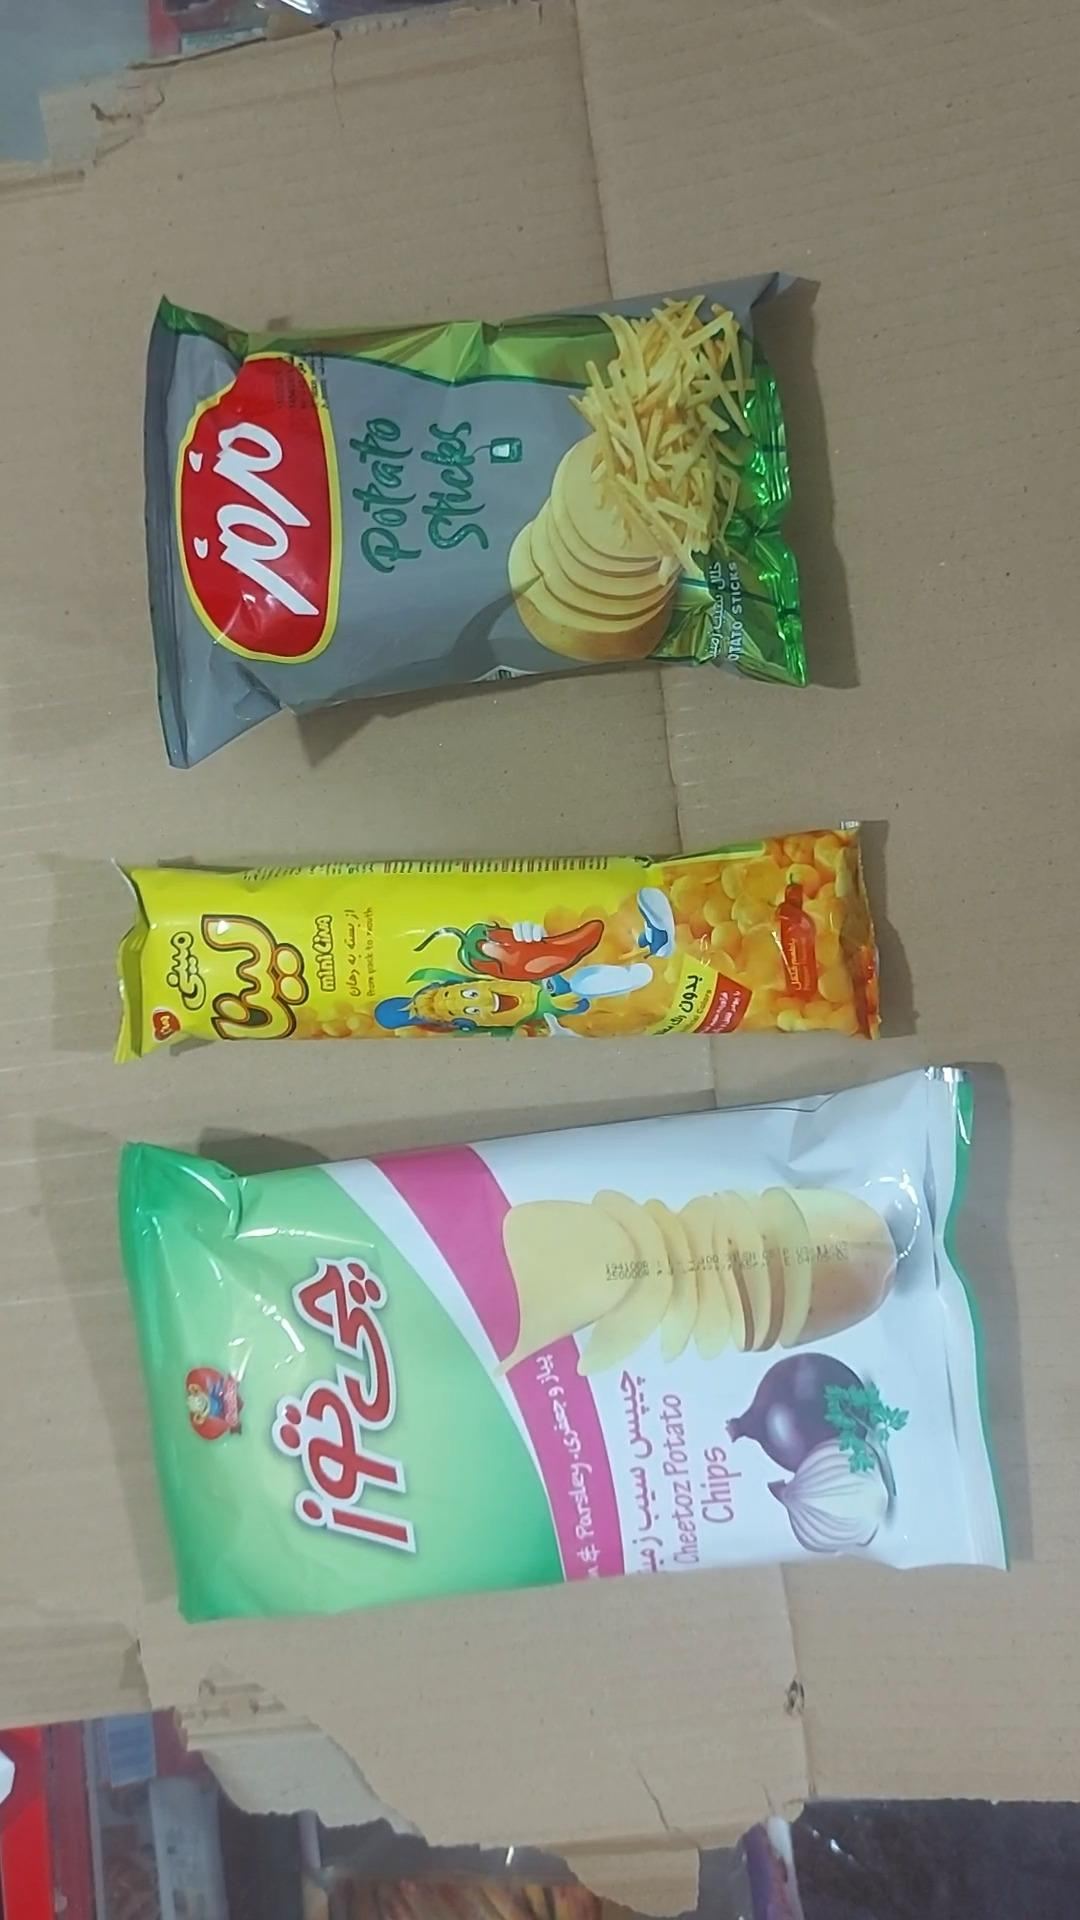Cheetoz onion and parsley chips: (120, 1068, 1007, 1621)
Maz Maz potato sticks: (145, 276, 806, 767)
Mini Lina: (116, 828, 880, 1062)
